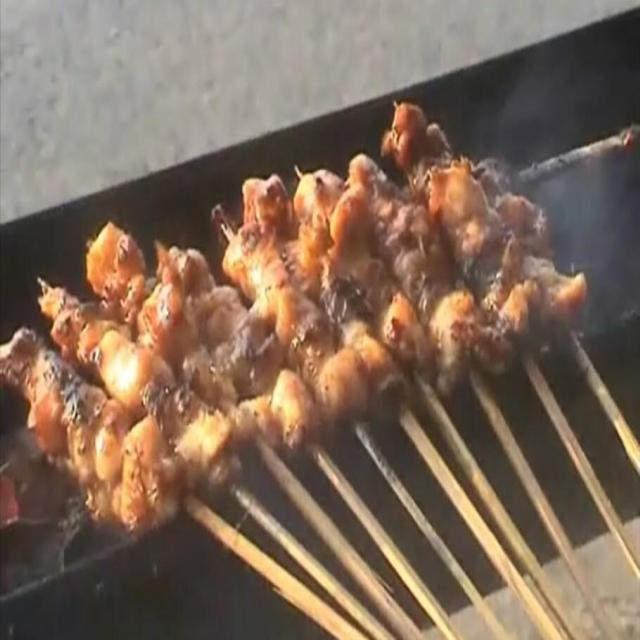Sate: (15, 57, 630, 639)
